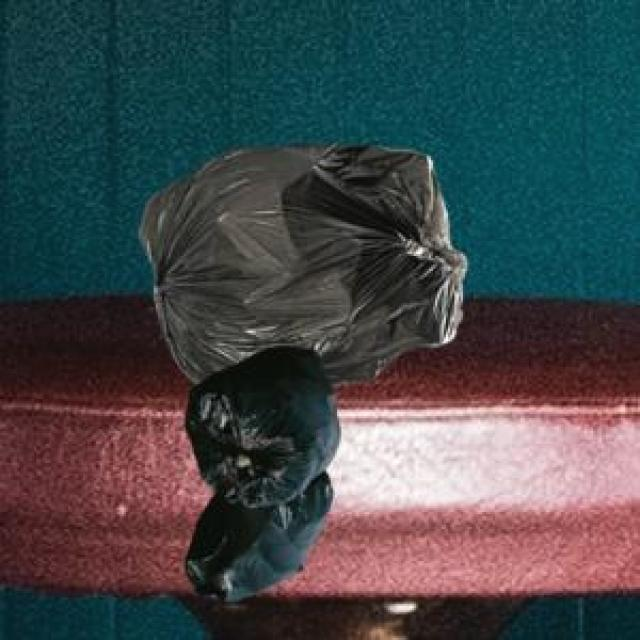Trashbag: (137, 140, 476, 384), (181, 341, 347, 510), (176, 476, 336, 605)
